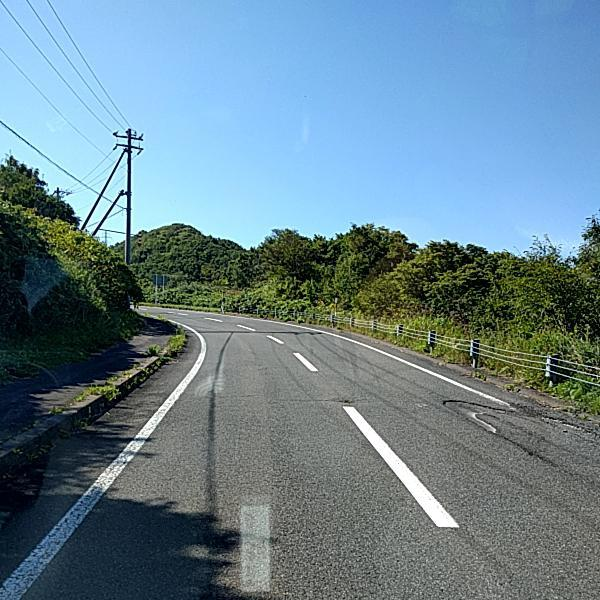D10: (276, 389, 367, 408)
D40: (439, 390, 510, 438)
